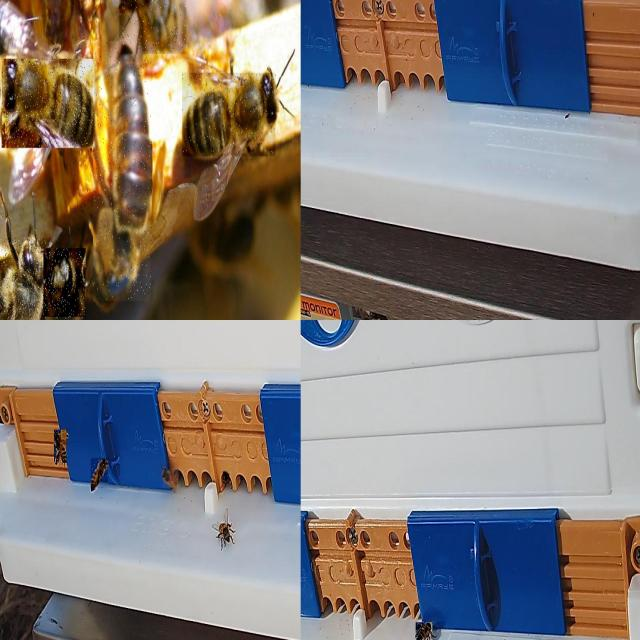honeybee: (108, 52, 159, 290), (0, 52, 94, 150), (184, 68, 277, 155), (0, 222, 41, 325), (41, 234, 84, 316), (212, 518, 234, 552), (92, 461, 110, 497), (52, 428, 67, 466), (416, 621, 436, 640)
